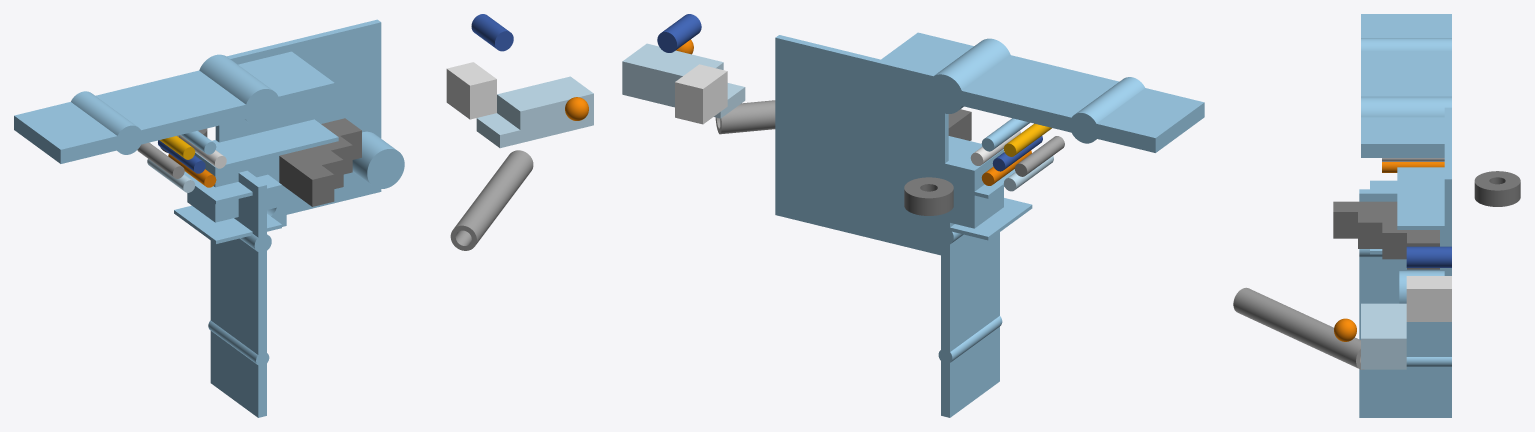
File: the_ultimate_chaotic_merbl_race.obj
3 views of the same model, side by side, from view 1: azimuth 30°, elevation 25°; view 2: azimuth 150°, elevation 25°; view 3: azimuth 270°, elevation 25° (orthographic). The views are drawn at different scales.
Parts seen in each view (by area): view 1: mesh13, mesh30, mesh33, mesh43, mesh3, mesh32, mesh19, mesh41, mesh23, mesh106, mesh44, mesh60 (+19 smaller); view 2: mesh55, mesh33, mesh43, mesh32, mesh41, mesh23, mesh107, mesh25, mesh109, mesh3, mesh31, mesh119 (+14 smaller); view 3: mesh39, mesh33, mesh3, mesh37, mesh19, mesh23, mesh32, mesh25, mesh89, mesh109, mesh117, mesh108 (+18 smaller).
Boxes of the visible parts, bbox=[...] form: mesh13: bbox=[219, 22, 381, 214]; mesh30: bbox=[60, 83, 334, 163]; mesh33: bbox=[95, 70, 245, 130]; mesh43: bbox=[210, 238, 258, 354]; mesh3: bbox=[454, 150, 533, 244]; mesh32: bbox=[14, 102, 116, 149]; mesh19: bbox=[195, 119, 338, 167]; mesh41: bbox=[210, 331, 258, 417]; mesh23: bbox=[238, 51, 334, 96]; mesh106: bbox=[500, 93, 593, 148]; mesh44: bbox=[254, 185, 271, 417]; mesh60: bbox=[215, 137, 338, 209]; mesh55: bbox=[775, 37, 1155, 417]; mesh33: bbox=[962, 55, 1118, 117]; mesh43: bbox=[950, 232, 999, 351]; mesh32: bbox=[1096, 88, 1203, 137]; mesh41: bbox=[950, 327, 999, 417]; mesh23: bbox=[881, 32, 973, 73]; mesh107: bbox=[622, 61, 720, 118]; mesh25: bbox=[934, 38, 1010, 90]; mesh109: bbox=[622, 43, 723, 75]; mesh3: bbox=[720, 100, 775, 134]; mesh31: bbox=[1076, 77, 1144, 123]; mesh119: bbox=[675, 82, 702, 124]; mesh39: bbox=[1359, 367, 1451, 417]; mesh33: bbox=[1361, 52, 1451, 96]; mesh3: bbox=[1233, 287, 1360, 368]; mesh37: bbox=[1359, 257, 1451, 356]; mesh19: bbox=[1397, 167, 1444, 225]; mesh23: bbox=[1361, 117, 1444, 143]; mesh32: bbox=[1361, 14, 1451, 37]; mesh25: bbox=[1361, 96, 1451, 117]; mesh89: bbox=[1333, 201, 1439, 243]; mesh109: bbox=[1361, 303, 1406, 338]; mesh117: bbox=[1406, 289, 1451, 321]; mesh108: bbox=[1361, 338, 1406, 369].
Bounding box in the file's own units: 0.329 × 0.1927 × 0.158.
